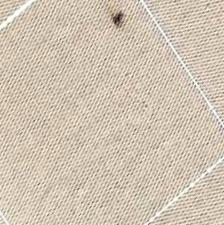stain: (109, 9, 130, 28)
